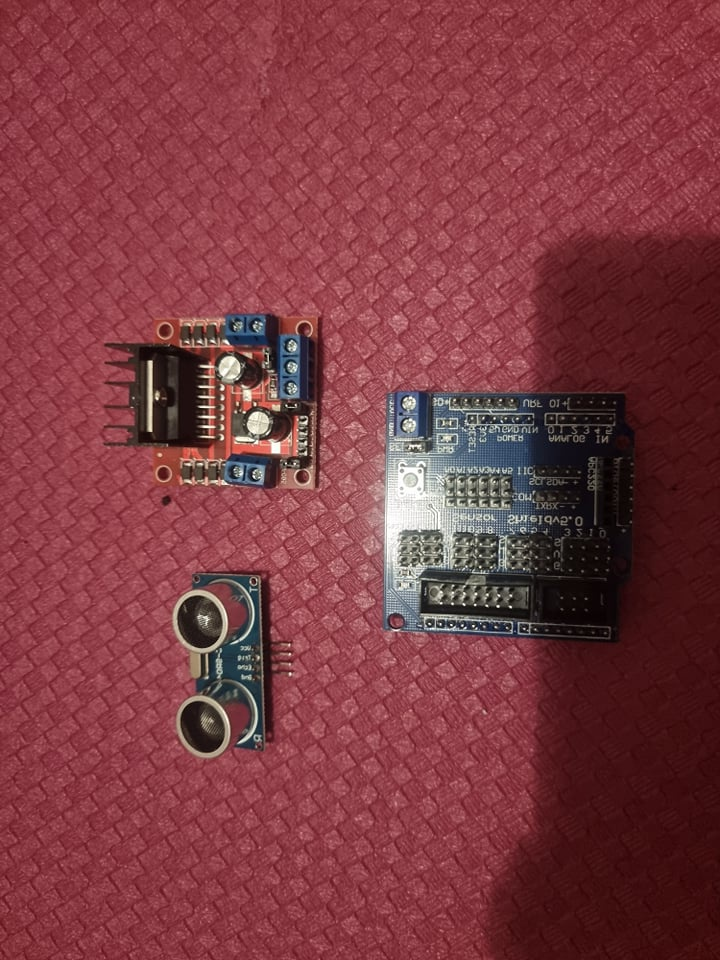5V EXPANSION: (377, 386, 634, 641)
MOTOR: (104, 307, 323, 496)
SENSOR: (177, 576, 265, 756)
